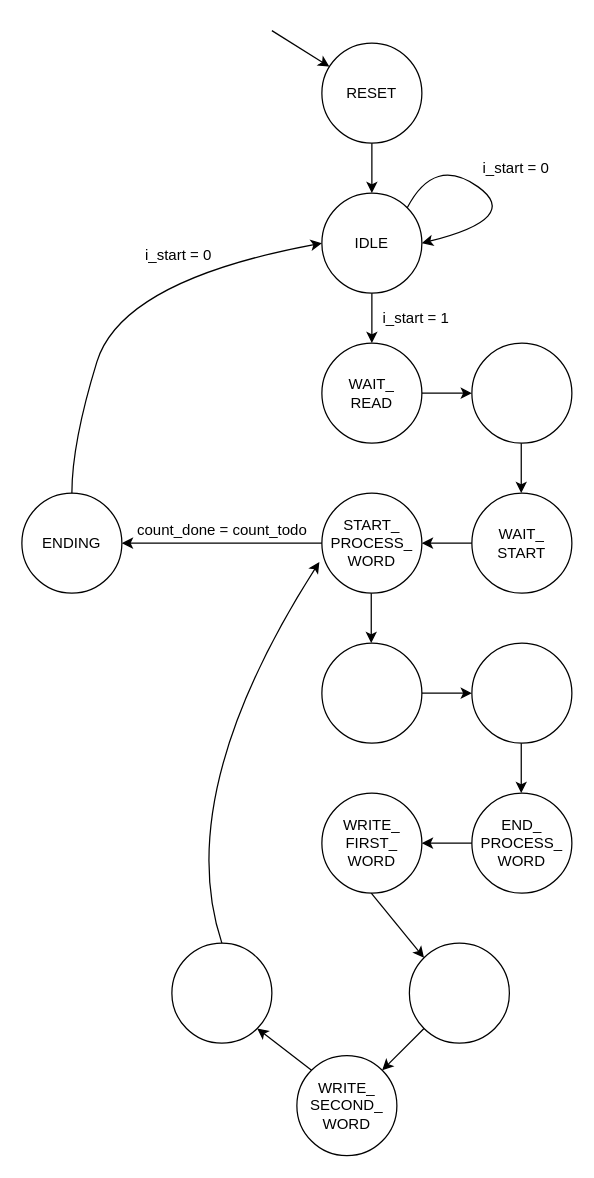
Some shapes in this 594 by 1178 pixel diagram are drawn without their labels. The shapes that lost their labels are listed below. From the top down, each one's centre as x and y in pixels, then its label:
At [521,392]: "READ_ LENGTH".
At [371,692]: "WAIT_ PROCESS".
At [521,692]: "FSM_SP".
At [221,992]: "NEXT_ WORD".
At [458,992]: "MID_ SETUP".
